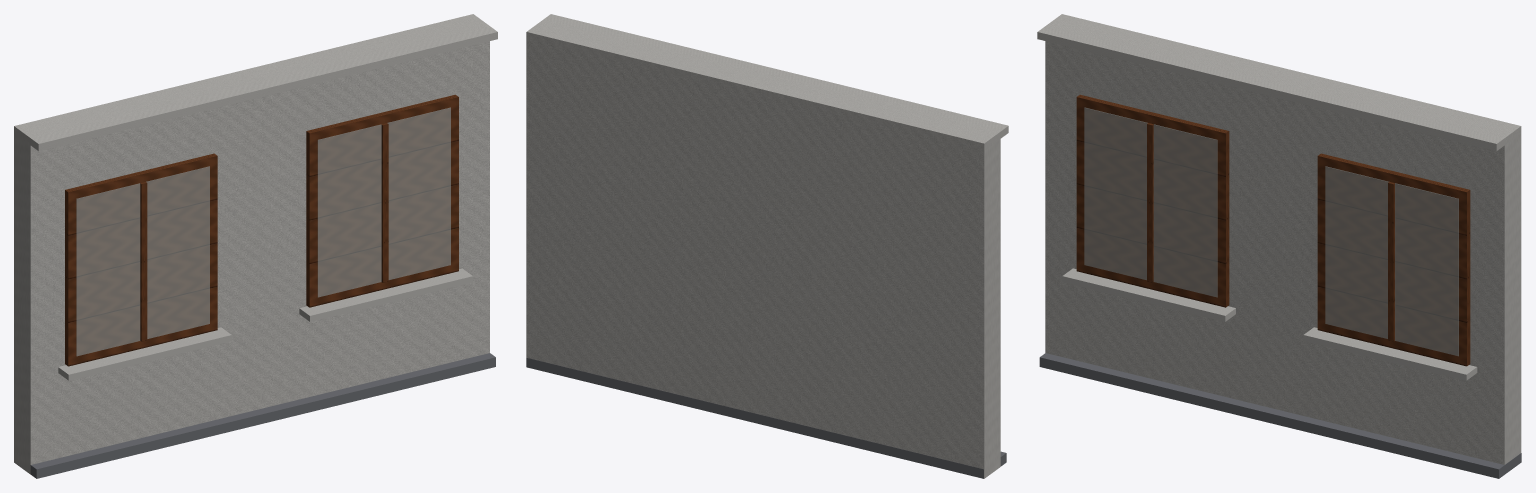
File: upper_storey_bay.glb
3 renders of one model, left to right at view 1: azimuth 30°, elevation 25°; view 2: azimuth 150°, elevation 25°; view 3: azimuth 330°, elevation 25°, orthographic.
Parts seen in each view (by area): view 1: upper-storey-bay-concrete, upper-storey-bay-darkwood, upper-storey-bay-glass, upper-storey-bay-charcoal; view 2: upper-storey-bay-concrete, upper-storey-bay-charcoal; view 3: upper-storey-bay-concrete, upper-storey-bay-darkwood, upper-storey-bay-glass, upper-storey-bay-charcoal.
Boxes of the visible parts, x1,y1,x2,y2 form: upper-storey-bay-concrete: (14,14,497,474); upper-storey-bay-darkwood: (65,94,458,366); upper-storey-bay-glass: (76,107,450,356); upper-storey-bay-charcoal: (30,353,495,478); upper-storey-bay-concrete: (526,14,1008,478); upper-storey-bay-charcoal: (526,357,1006,478); upper-storey-bay-concrete: (1037,14,1521,464); upper-storey-bay-darkwood: (1076,94,1470,366); upper-storey-bay-glass: (1084,107,1458,356); upper-storey-bay-charcoal: (1039,353,1521,478).
Size of the model in its own units: 4 by 2.8 by 0.4112.
4 materials, 2 textured.
